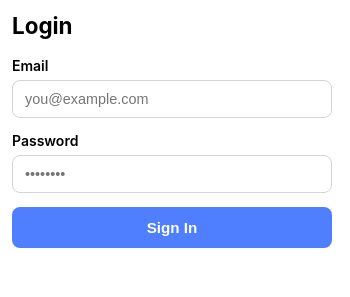
Test: LoginForm › shows error when fields are empty
Click the button "Sign In". click: (172, 228)
box: [12,207,332,248]
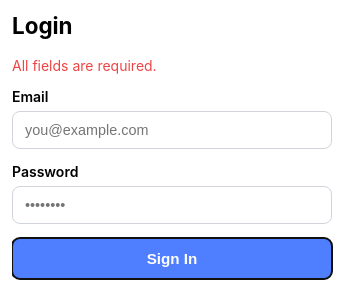
Result: the message shows "required" at [12,57,157,74]
